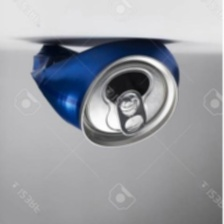can: (28, 35, 182, 148)
